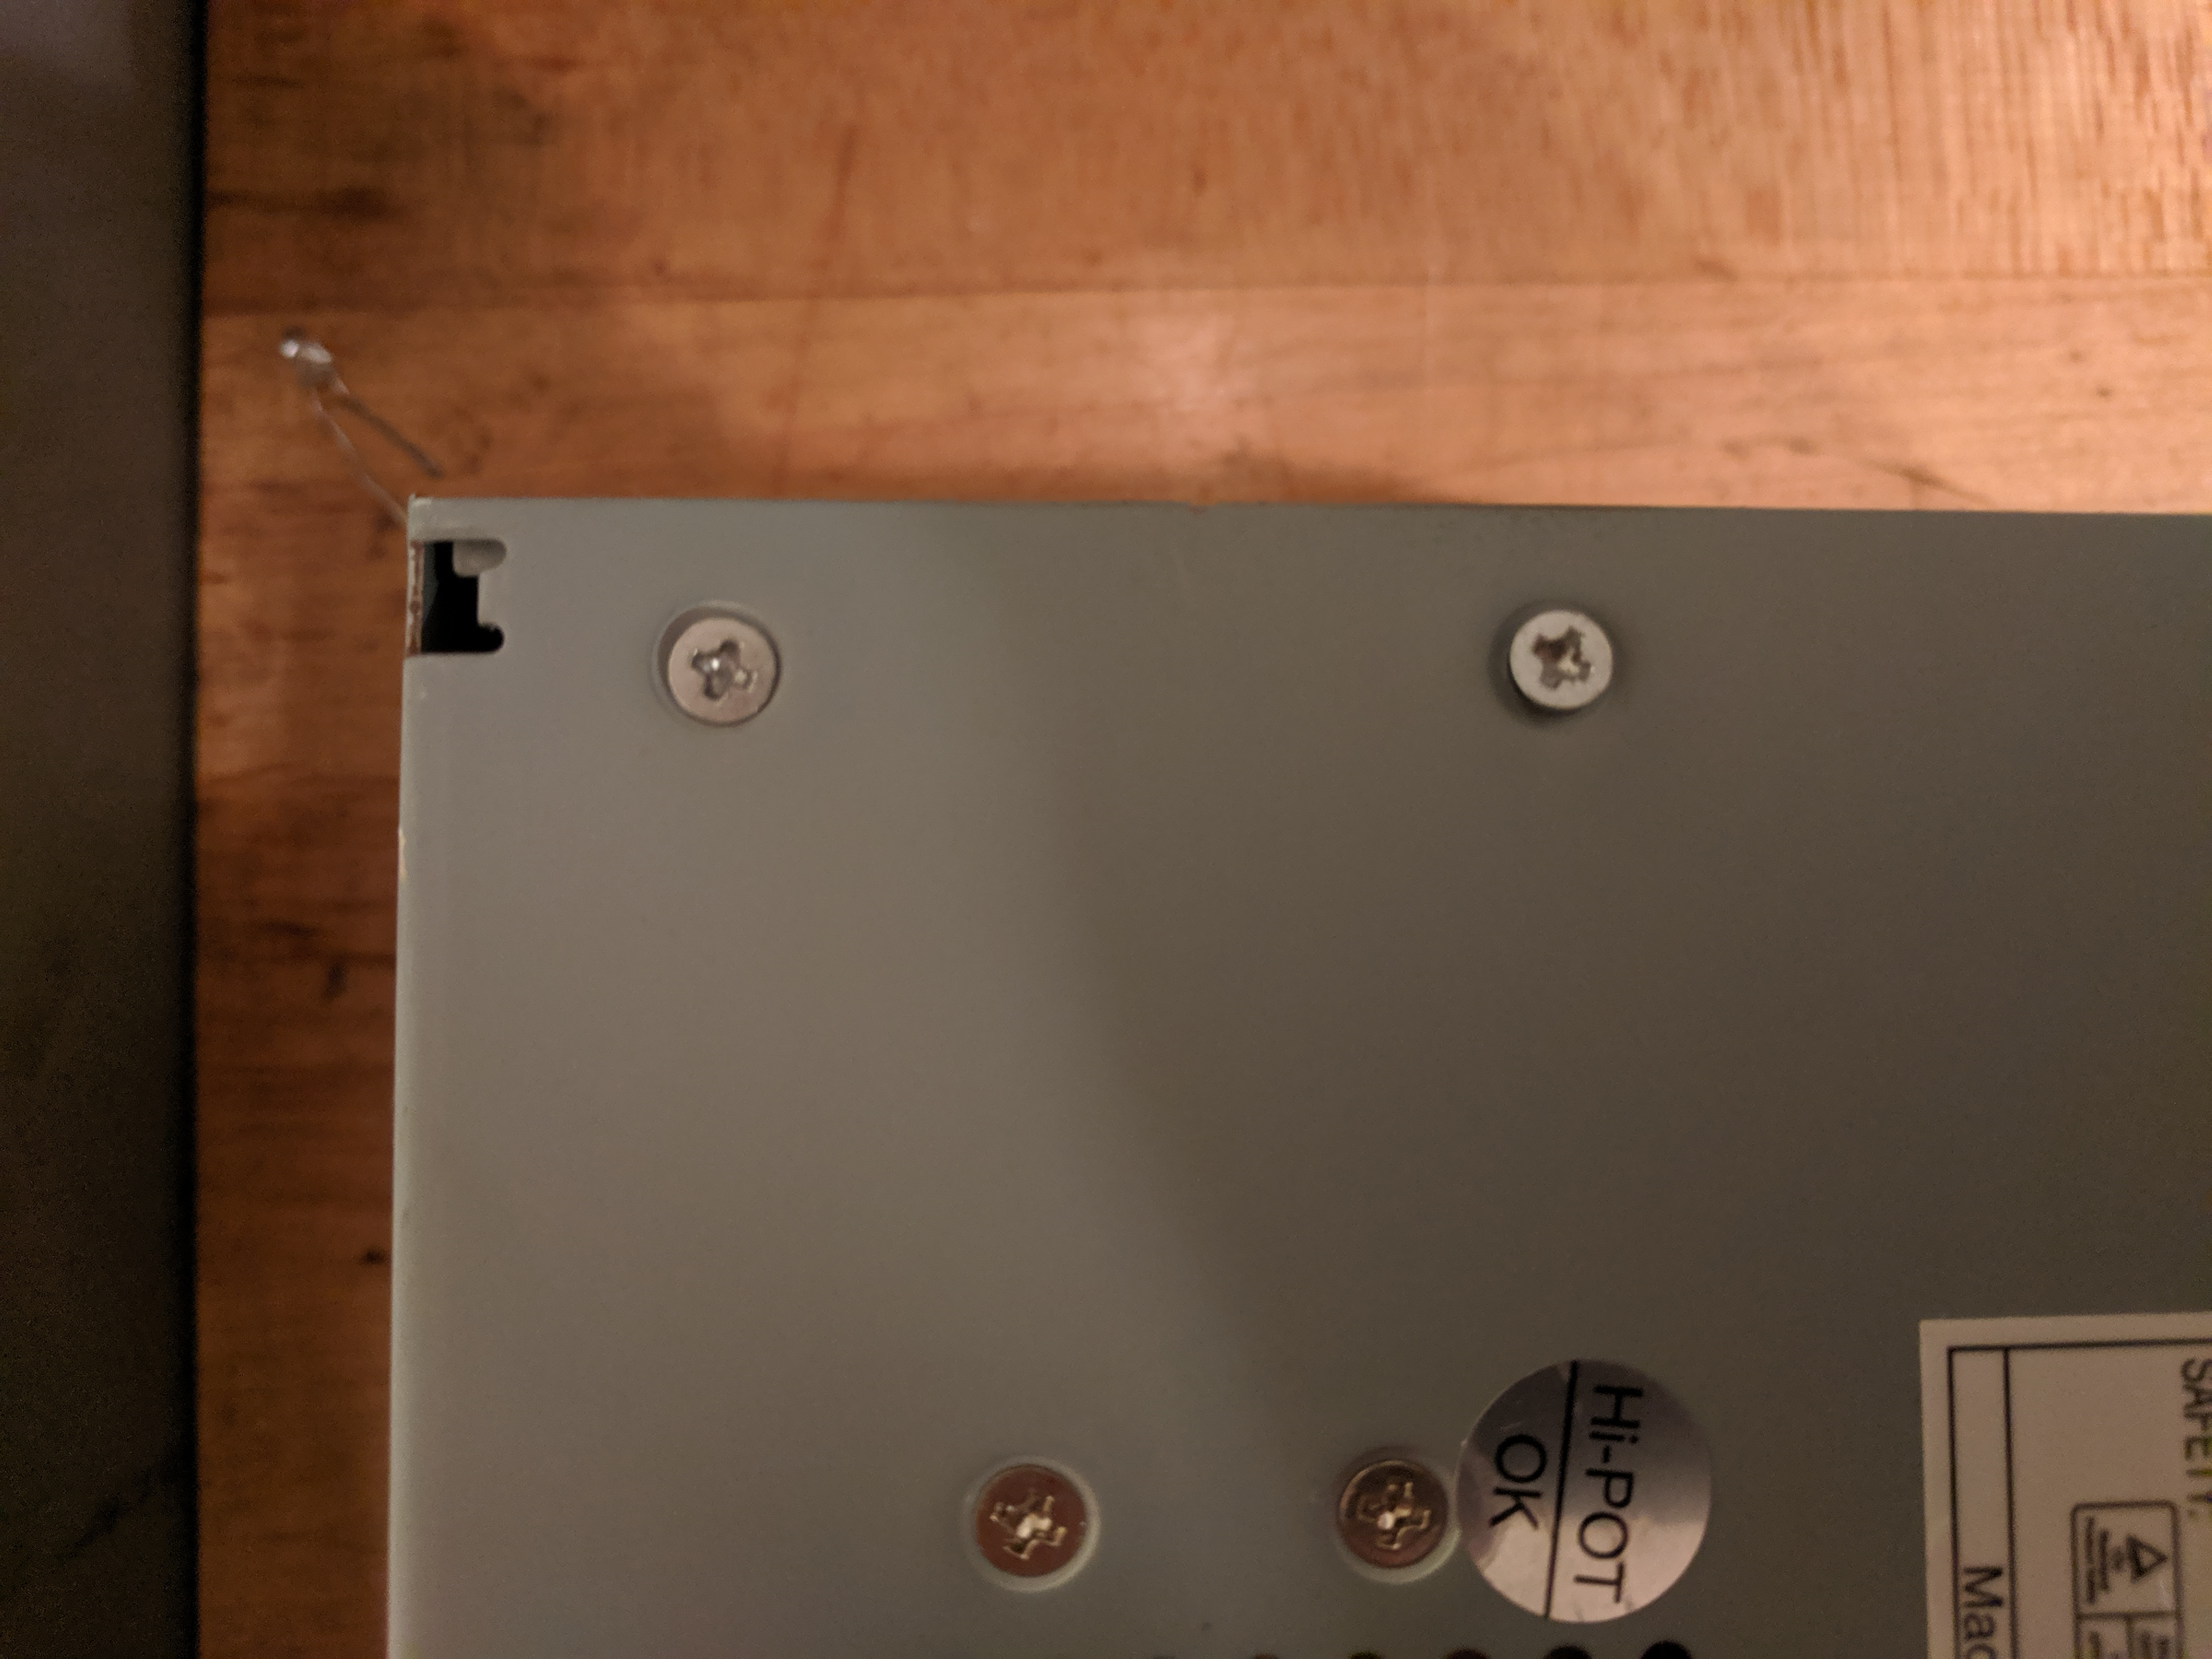cross_recessed_screw: (653, 603, 786, 723), (970, 1455, 1085, 1579), (1332, 1452, 1451, 1567), (1503, 601, 1616, 709)
